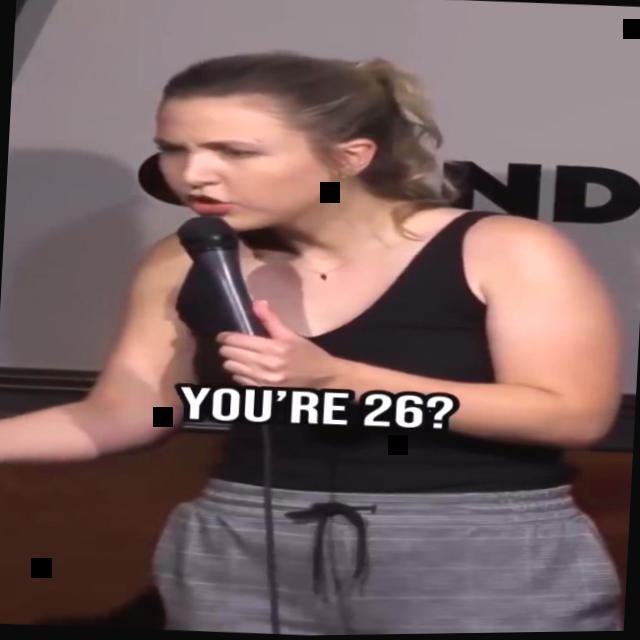NO-Mask: (146, 89, 352, 252)
